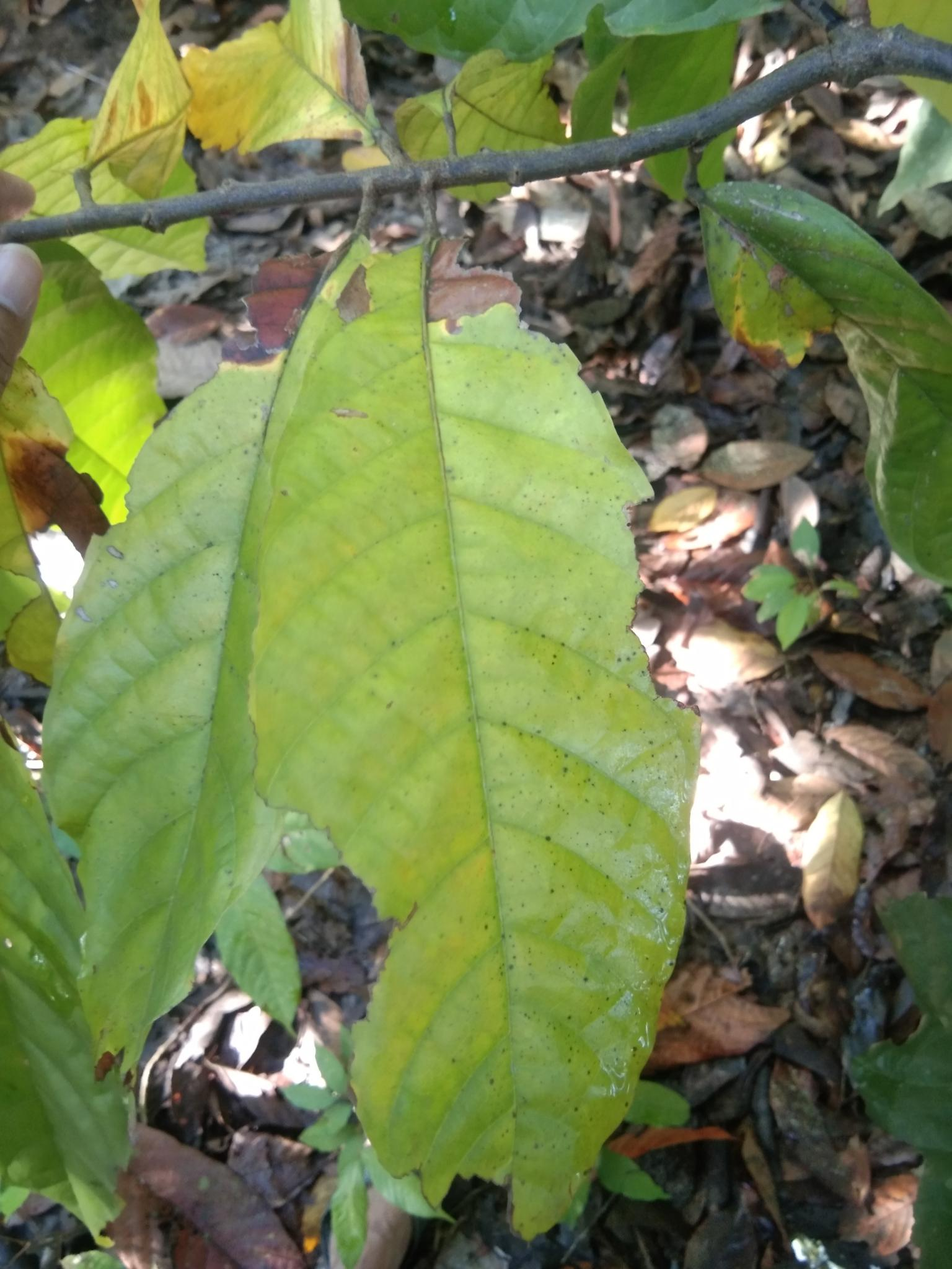Fosforo: (241, 208, 710, 1236)
